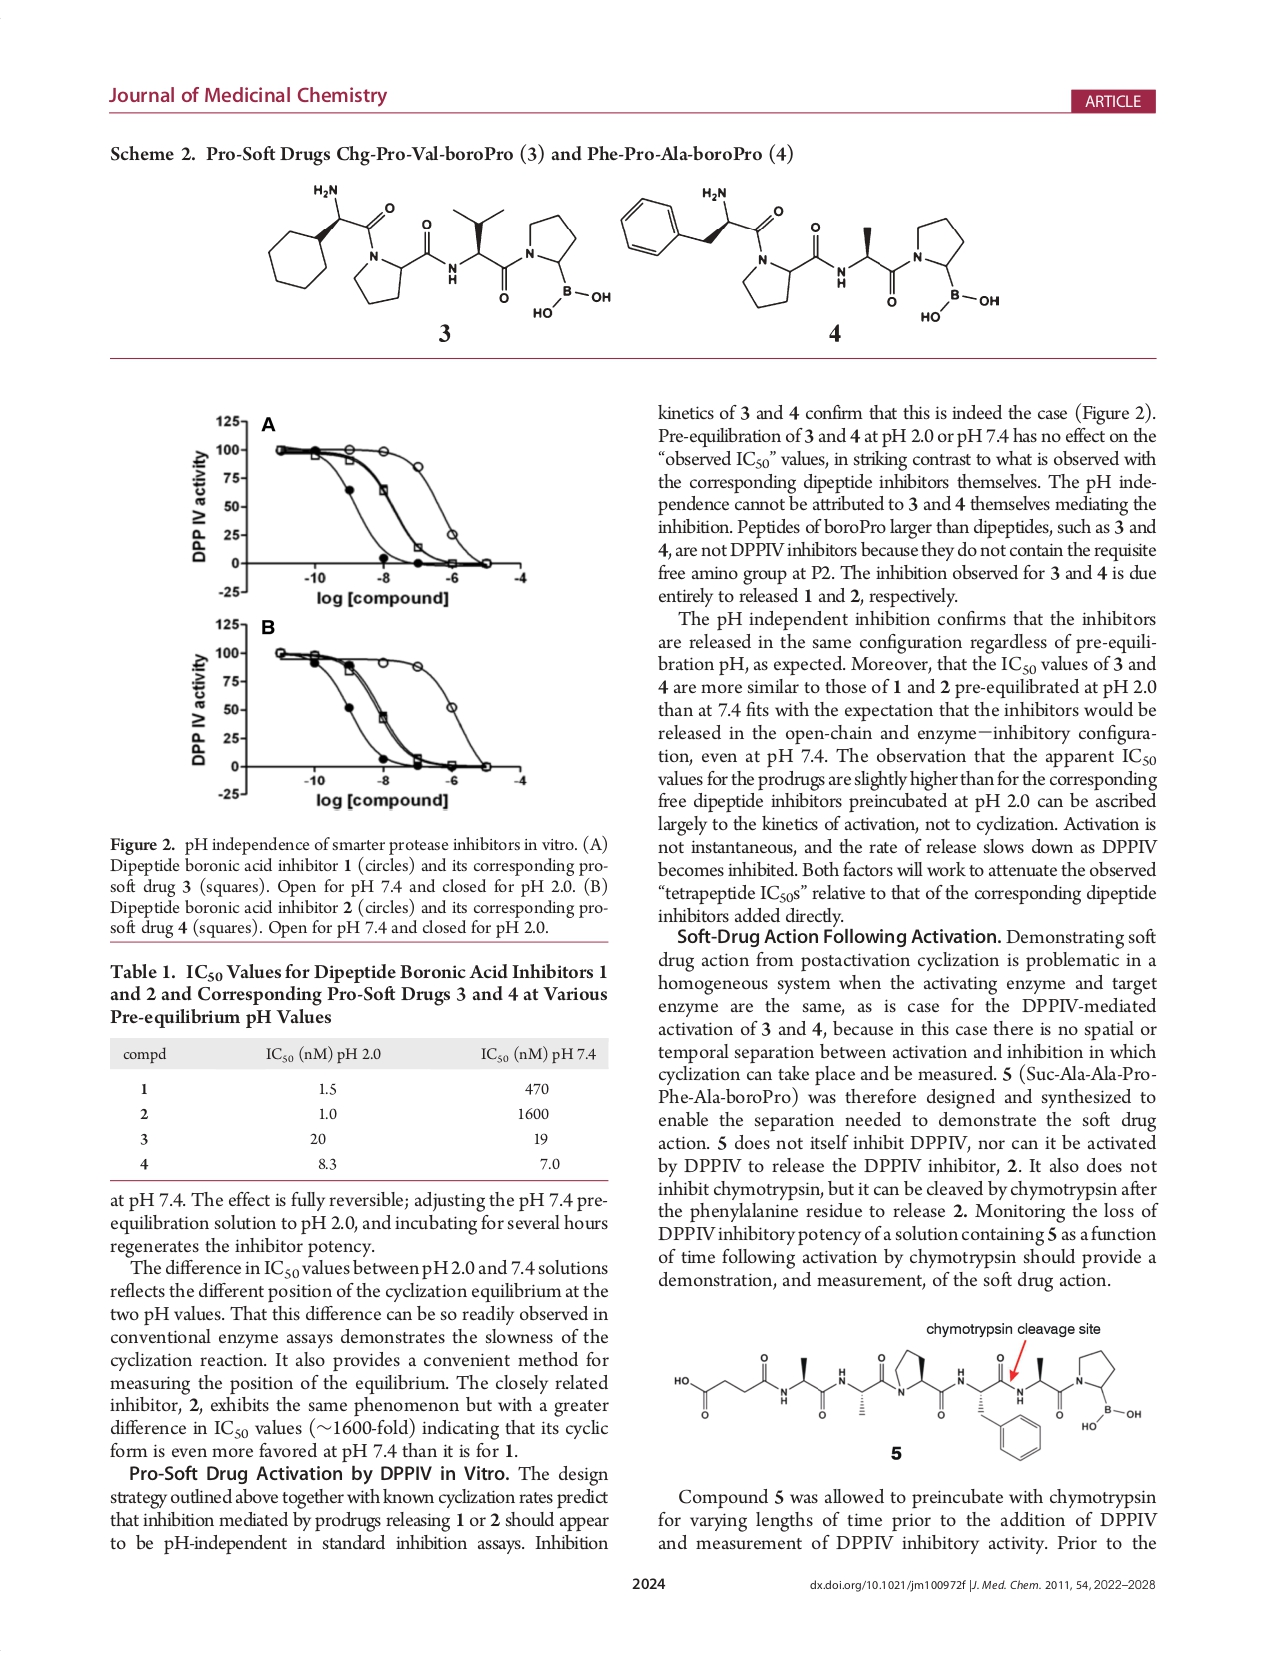exist_molecular: (618, 176, 1003, 321), (670, 1347, 1144, 1464), (267, 181, 617, 323)
